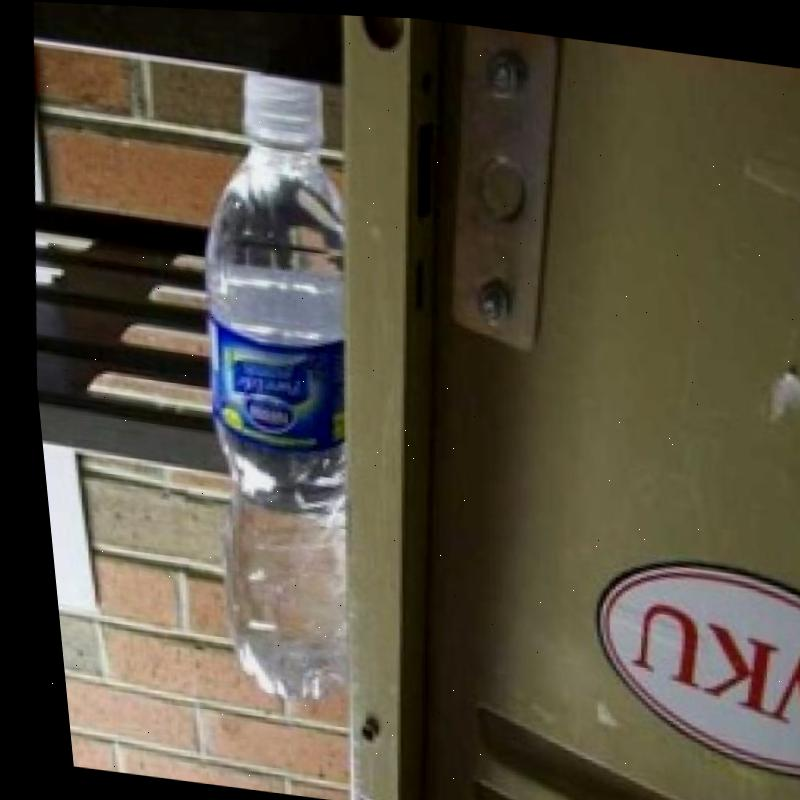botella: (145, 56, 393, 708)
